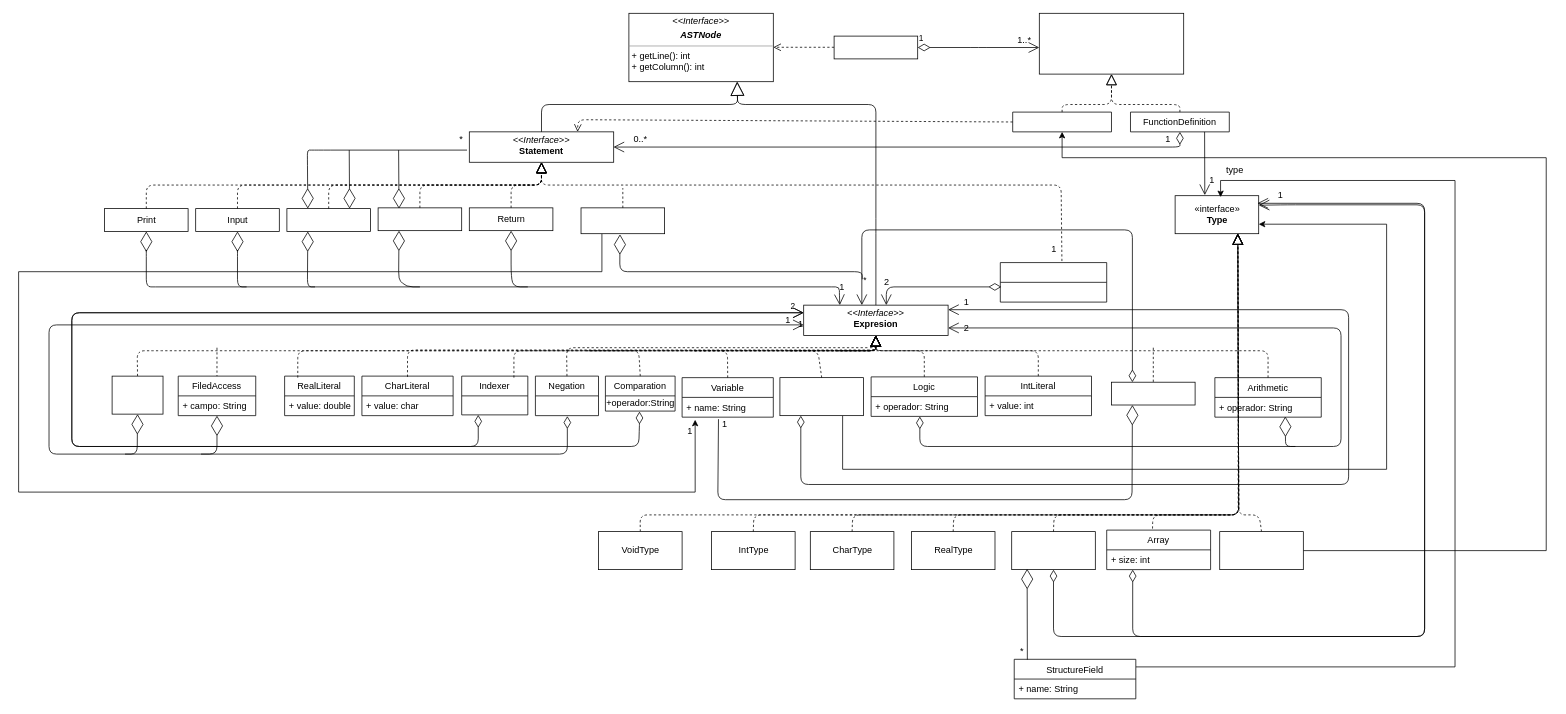
This 1566x714 diagram has some shape labels left out. Each missing label, with the centre of its shape:
<<Interface>> Definition + getType(): Type + getName(): String: the point at 1111,43
Assigment: the point at 1053,282
CallProcedure: the point at 622,220
Cast: the point at 821,396
FunctionType: the point at 1261,550
if-else: the point at 328,219
invokeFunction: the point at 1153,393
Program: the point at 875,47
StructureType: the point at 1053,550
UnaryMinus: the point at 137,394
VariableDefinition: the point at 1062,121
While: the point at 419,219
